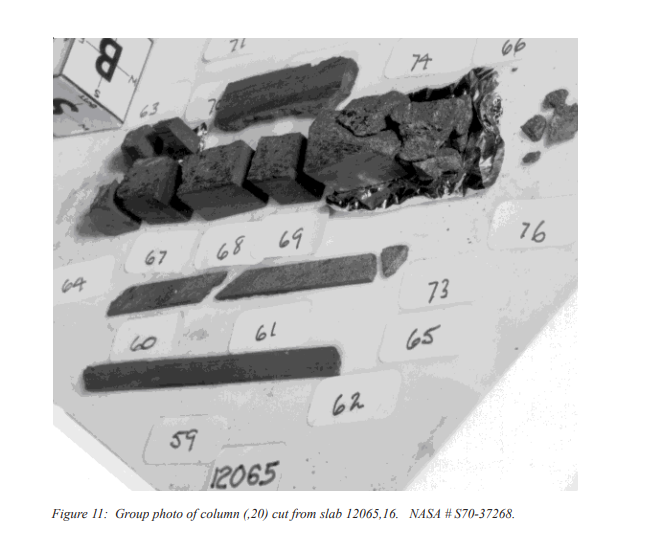Basalt: (109, 114, 518, 210), (206, 71, 514, 189)
